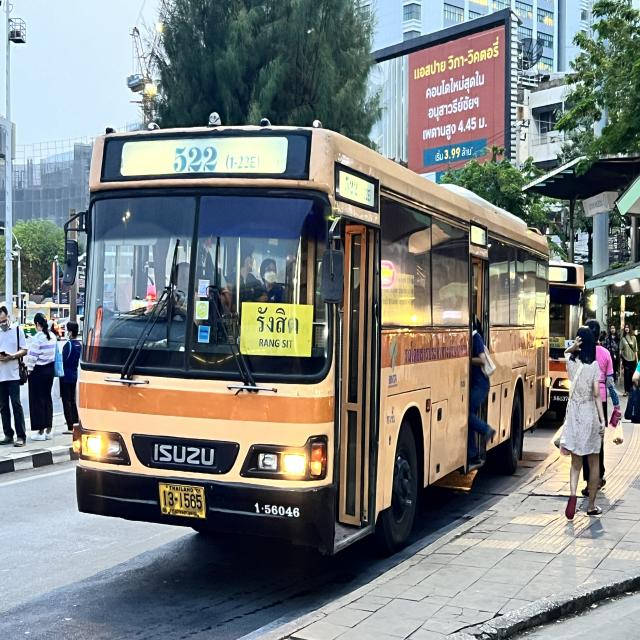BMTA-bus: (71, 100, 556, 570)
Bus-Line-Number: (168, 142, 264, 175)
Destination-Sign-Normal-Expressway: (240, 302, 310, 357)
